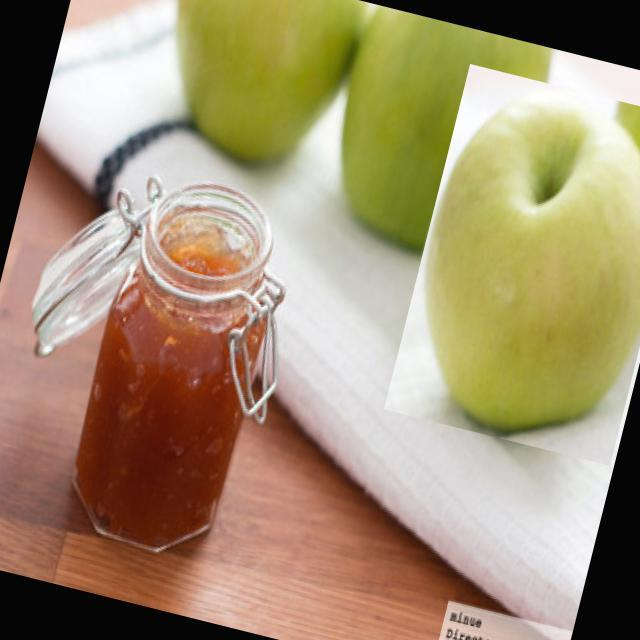Green Apple: (174, 1, 639, 433), (615, 100, 640, 151)
Red Apple: (424, 89, 640, 433), (341, 6, 553, 252), (175, 1, 363, 165)
